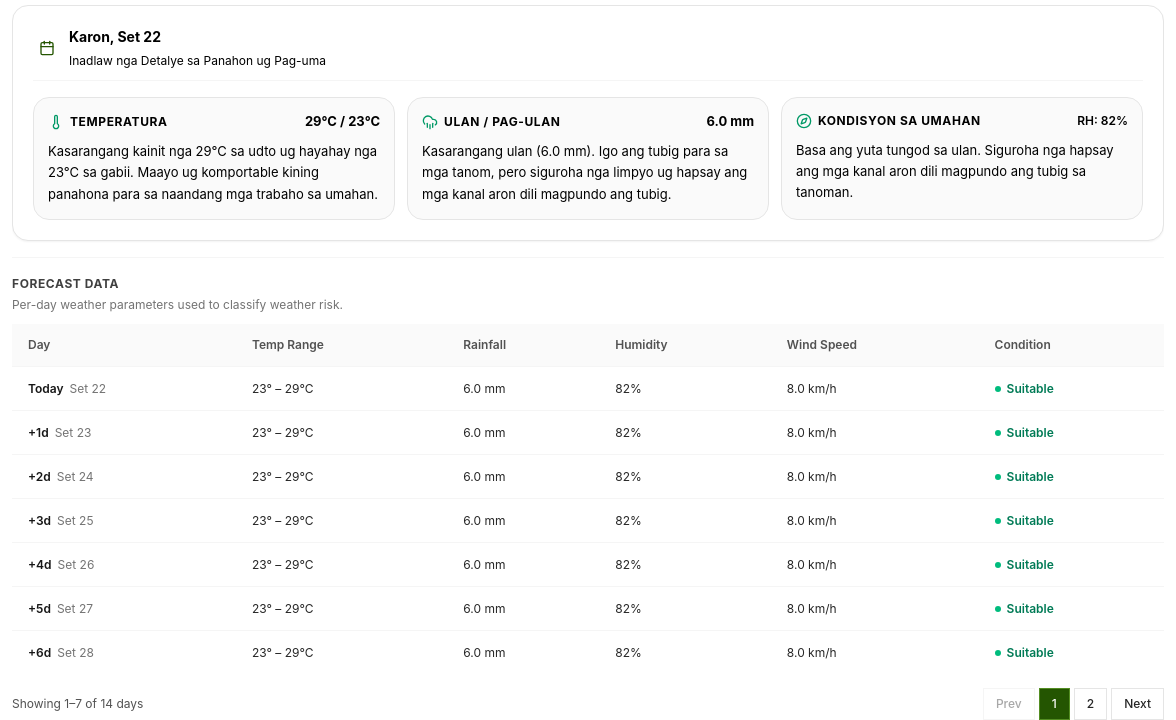
Scenario: AdminAnalyticsBasis Weather Risk Basis › paginates the forecast data table and labels rows with relative day offsets
(page scrolled)
expect the text "Showing 1–7 of 14 days" is shown: met, box [12, 694, 143, 714]
expect the text "+6d" is shown: met, box [28, 644, 51, 660]
Page 2 shows the remaining 7
Click the button "Next". click: {"x": 1138, "y": 704}
box: [1111, 688, 1164, 719]
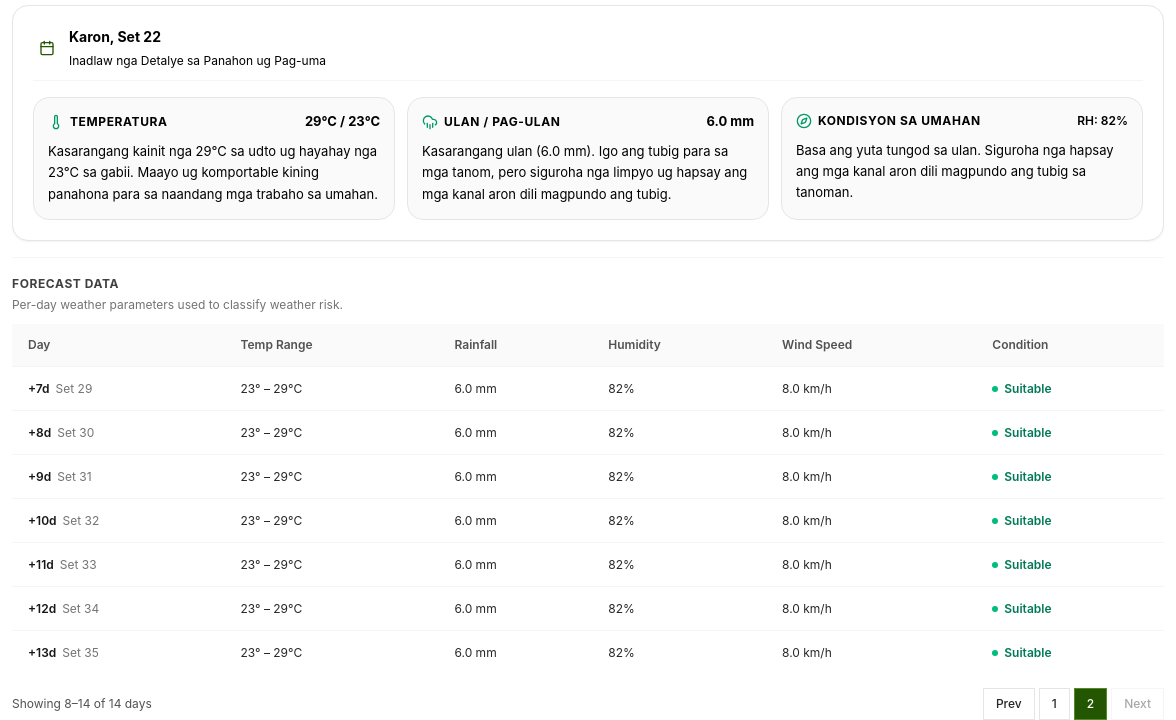
expect the text "Showing 8–14 of 14 days" is shown: met, box [12, 694, 152, 714]
expect the text "+7d" is shown: met, box [28, 380, 50, 396]
expect the text "+6d" is gone: met
Back to page 1
Click the button "Prev". click: {"x": 1009, "y": 704}
box: [983, 688, 1035, 719]
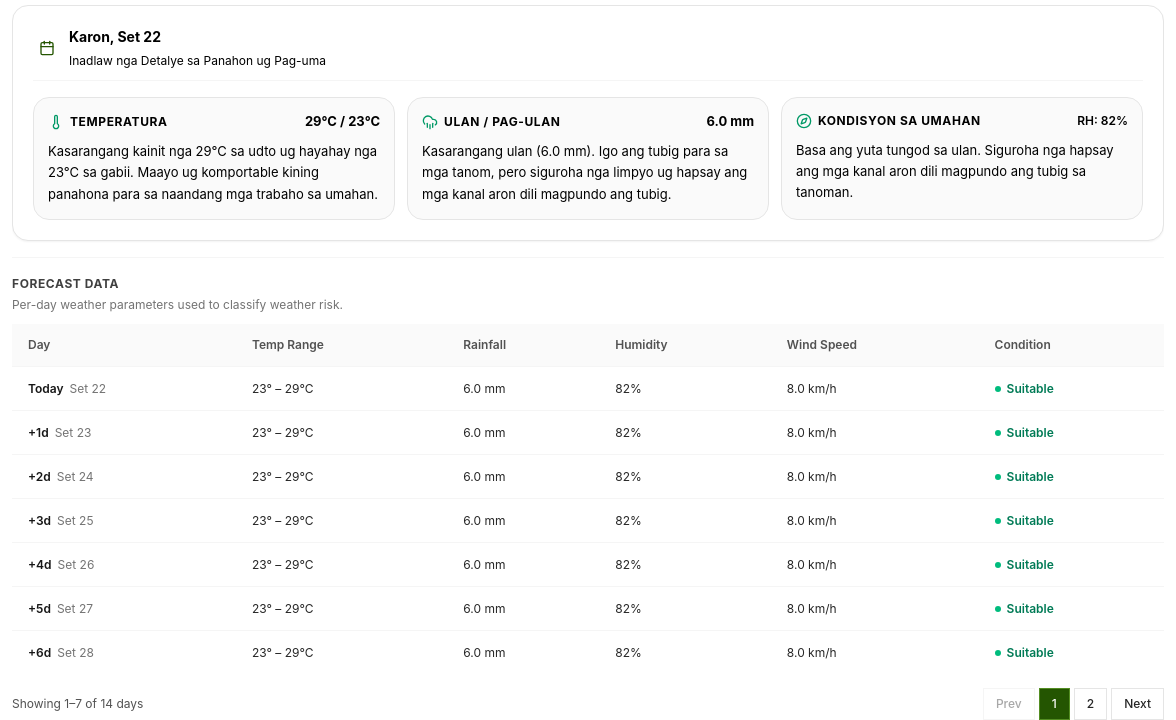
expect the text "Showing 1–7 of 14 days" is shown: met, box [12, 694, 143, 714]
